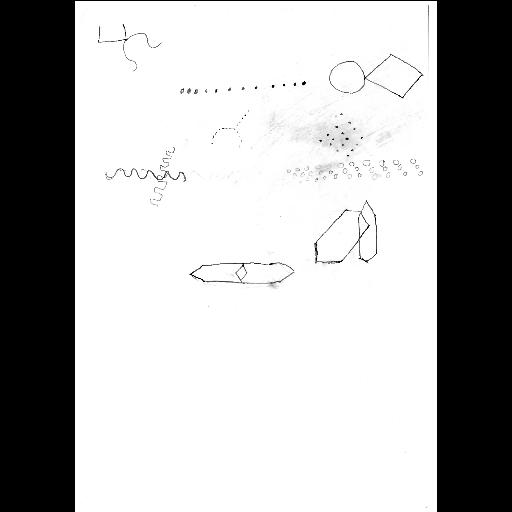shape-1: (324, 50, 424, 104)
shape-2: (176, 73, 310, 105)
shape-3: (279, 157, 425, 185)
shape-4: (316, 106, 368, 160)
shape-5: (93, 16, 163, 74)
shape-6: (206, 102, 252, 152)
shape-7: (102, 142, 190, 212)
shape-8: (310, 196, 384, 270)
shape-9: (188, 258, 296, 290)
